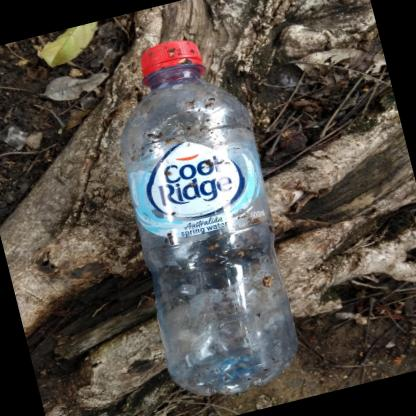Plastic: (120, 40, 298, 395), (141, 40, 202, 73)
